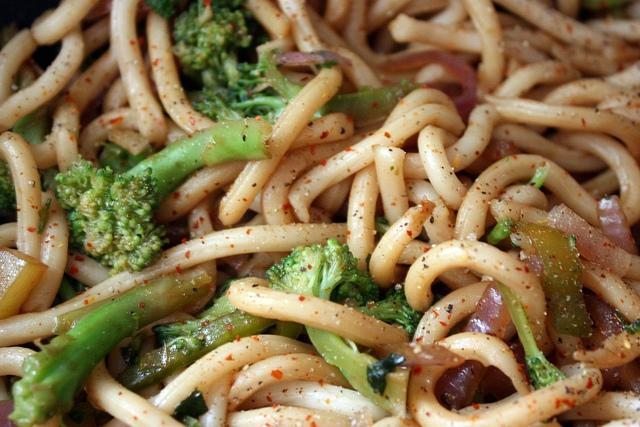broccoli: (54, 117, 275, 276), (8, 268, 212, 427), (265, 237, 410, 418), (113, 277, 279, 393), (494, 280, 566, 390), (171, 20, 238, 88), (12, 110, 48, 144), (488, 217, 514, 245)
onion: (440, 280, 512, 411), (548, 203, 630, 278), (380, 51, 477, 114), (0, 246, 49, 320), (597, 196, 640, 256), (369, 342, 467, 368), (584, 294, 624, 338), (266, 50, 352, 66), (84, 0, 112, 20)
